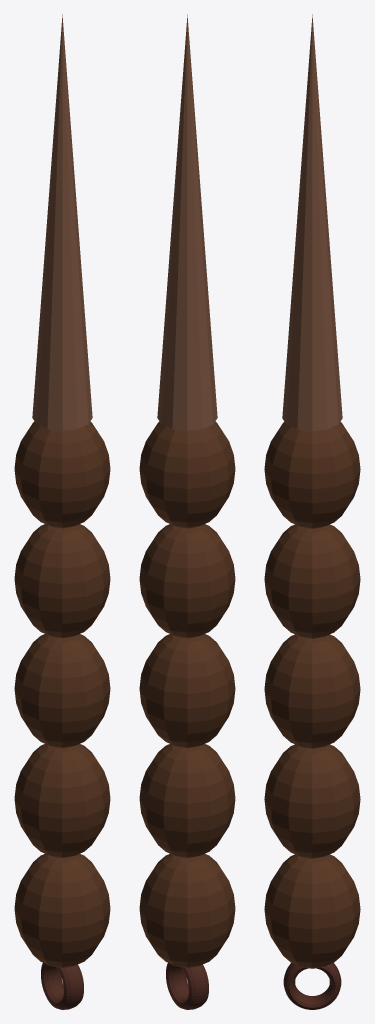
Rendered from Wand 221.glb.
The picture shows the model from 3 angles, left to right: view 1: azimuth 30°, elevation 25°; view 2: azimuth 210°, elevation 25°; view 3: azimuth 270°, elevation 25°; orthographic projection.
Visible parts, largest first — view 1: GeneratedWand; view 2: GeneratedWand; view 3: GeneratedWand.
Boxes of the visible parts, <box> form: GeneratedWand: <box>14,14,110,1009</box>; GeneratedWand: <box>139,14,235,1009</box>; GeneratedWand: <box>264,14,360,1009</box>.
Size of the model in its own units: 0.0447 by 0.5126 by 0.0449.
